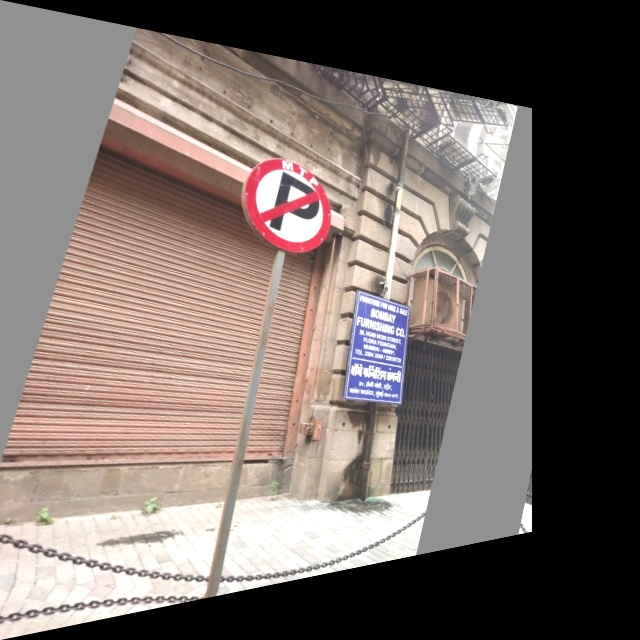No_Parking: (230, 139, 345, 265)
